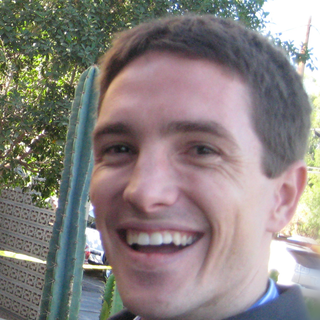eye: (175, 136, 227, 168), (97, 138, 141, 166)
